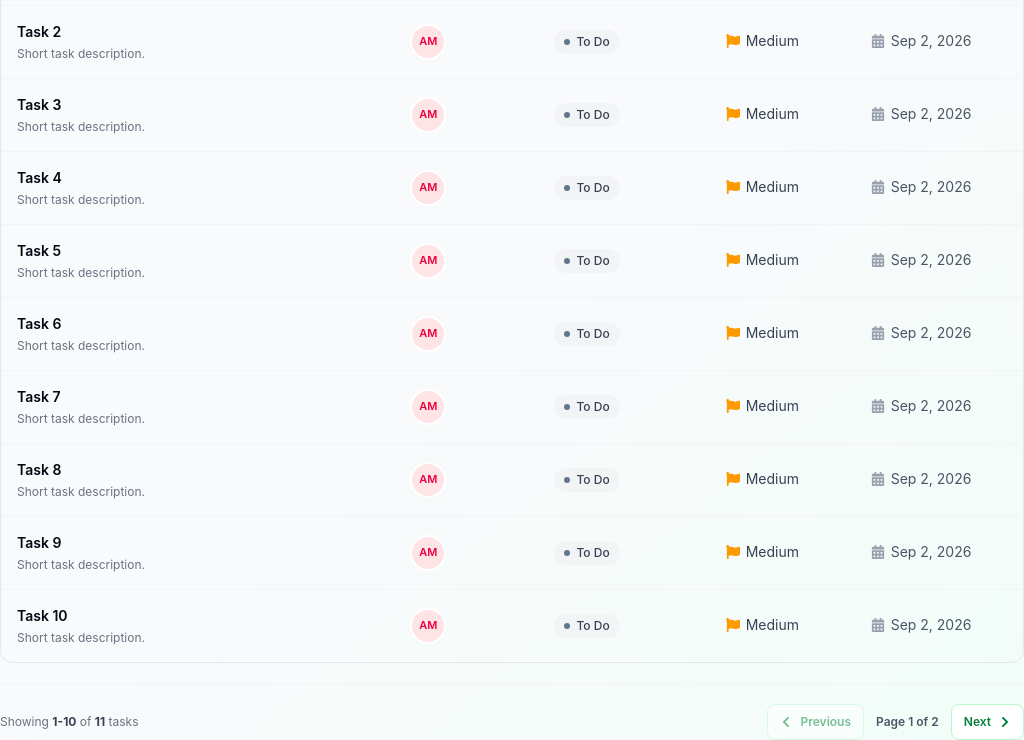
Scenario: TaskList › paginates task rows with the shared pagination controls
(page scrolled)
Expected: the navigation bar named "tasks pagination" shows "Showing 1-10 of 11 tasks", [0,683,1023,739]
Expected: the text "Task 11" is not shown
Click the button "Next" at (987, 722), box [951,704,1023,739]
(page scrolled)
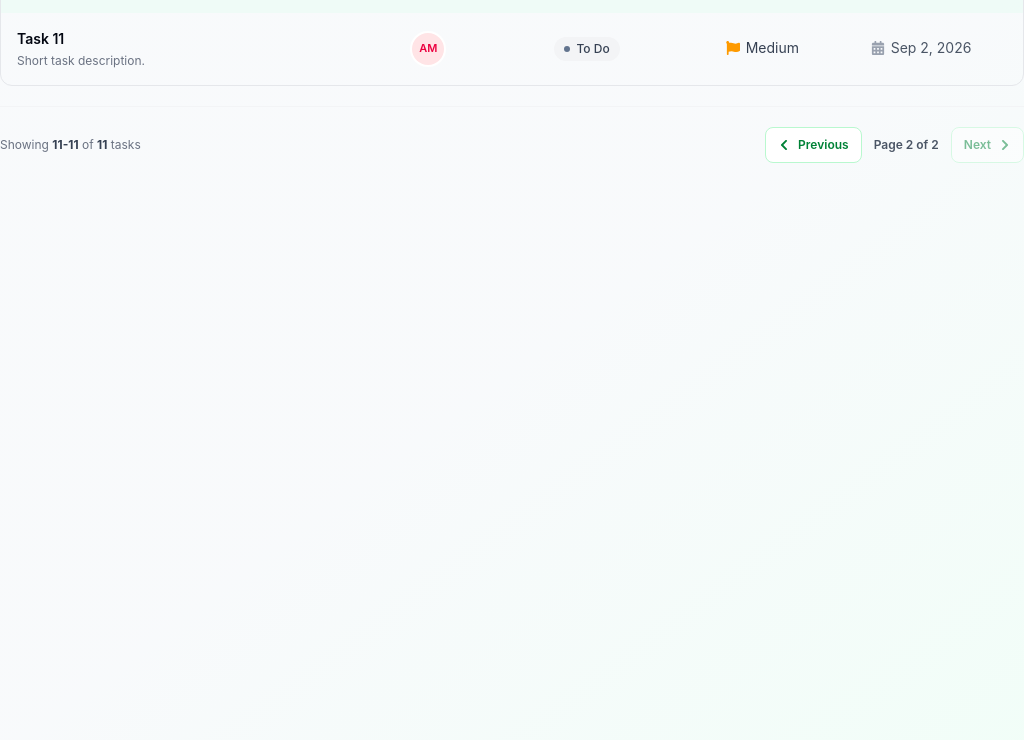
Expected: the navigation bar named "tasks pagination" shows "Showing 11-11 of 11 tasks", [0,106,1023,163]
Expected: the text "Task 11" is shown, [17,30,64,47]
